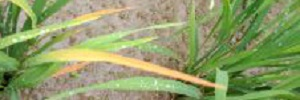RiceTungro: (67, 48, 214, 74), (69, 6, 135, 24)
